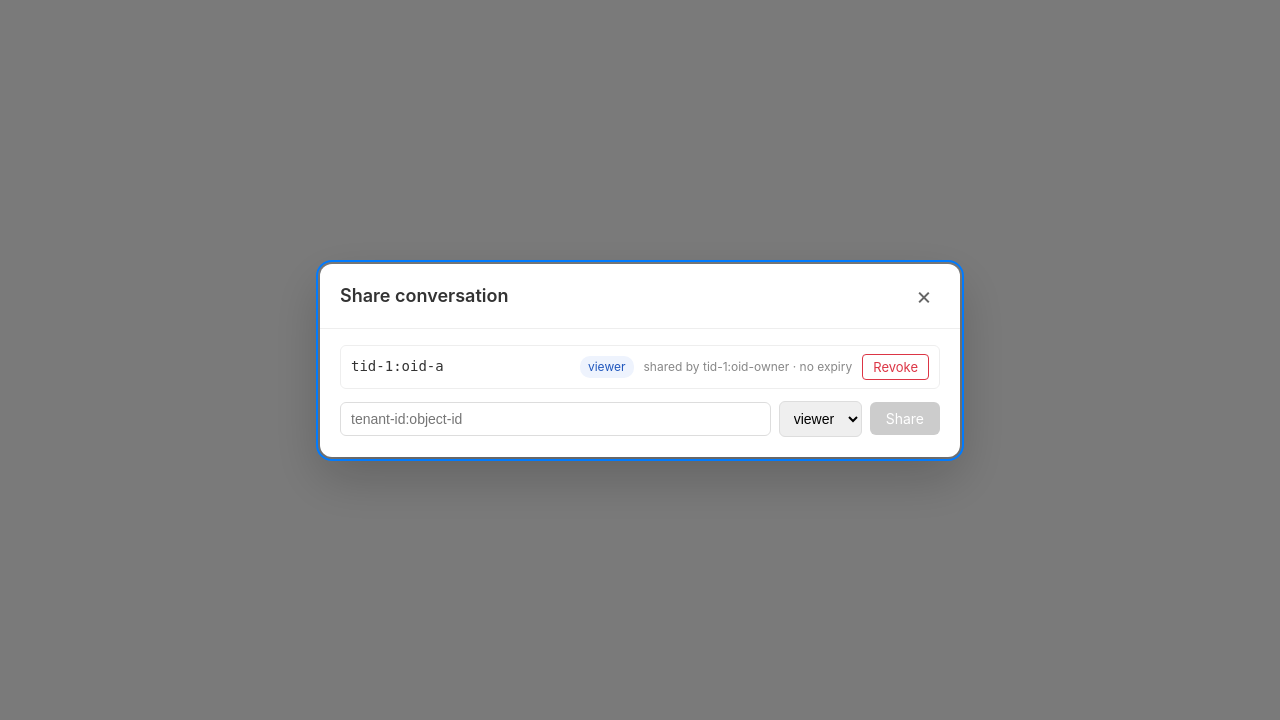
it: ShareConversationModal mutations › deletes the subject, then re-reads the roster
The image size is (1280, 720).
Click the button with test id "share-remove-tid-1:oid-a" at [896, 366], box 862,354 -> 929,380
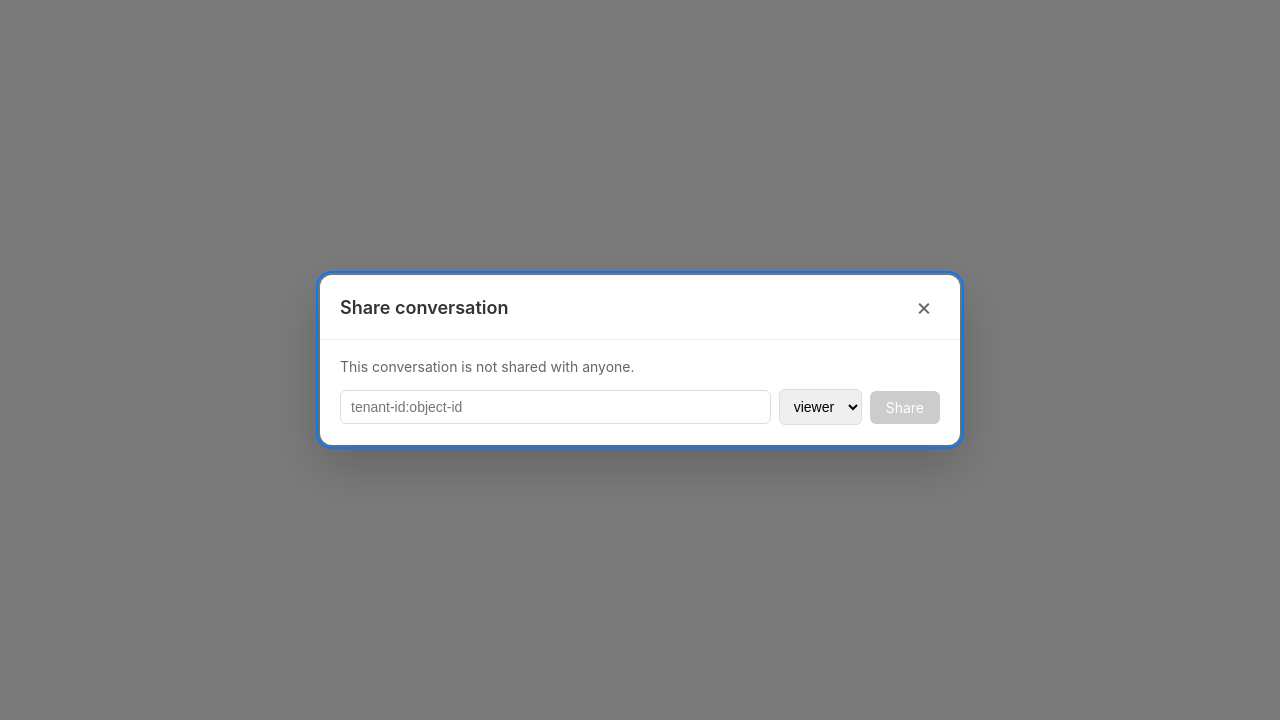
Expected: the list item with test id "share-empty" is shown, 340,358 -> 634,375
